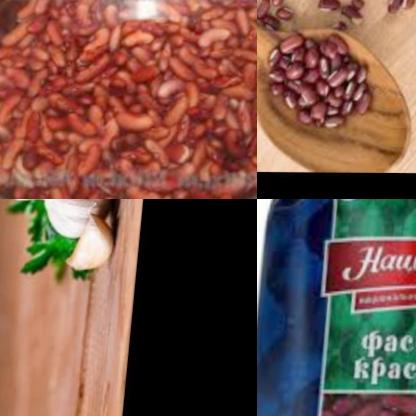fasol: (0, 0, 257, 199), (264, 31, 388, 139), (257, 0, 416, 43)
garlic: (9, 199, 126, 239), (69, 203, 126, 274)
